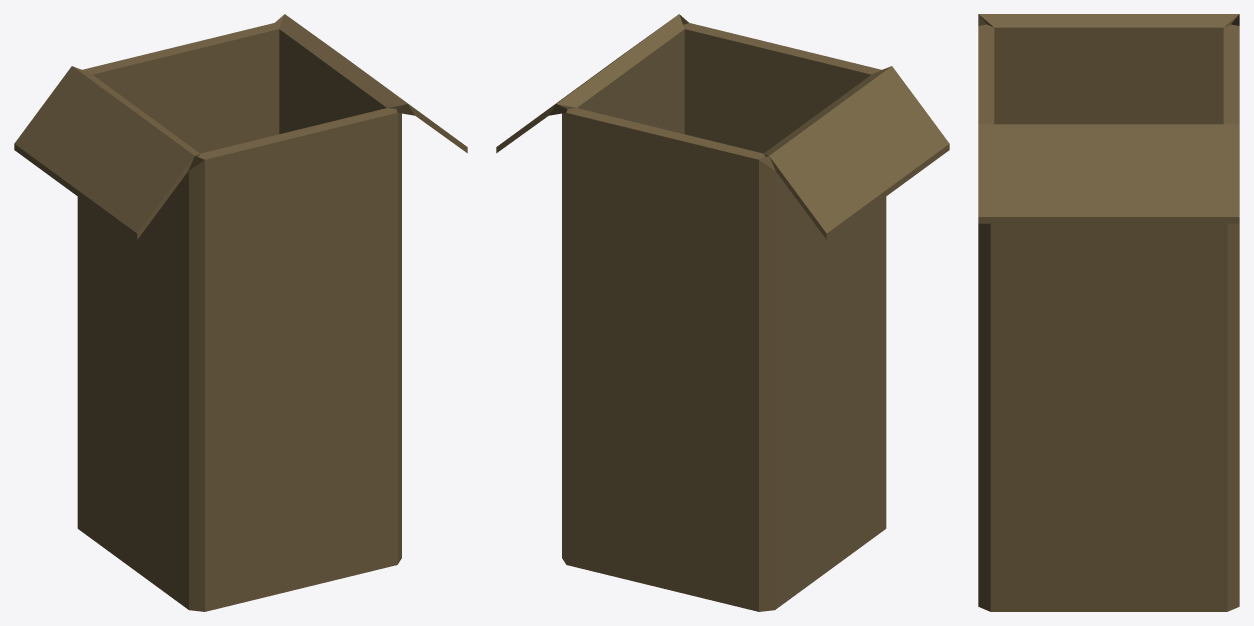
File: CartoonBox1.fbx
3 views of the same model, side by side, from view 1: azimuth 30°, elevation 25°; view 2: azimuth 150°, elevation 25°; view 3: azimuth 270°, elevation 25° (orthographic). The views are drawn at different scales.
Parts seen in each view (by area): view 1: Cube.003; view 2: Cube.003; view 3: Cube.003.
Part boxes in pixels (box(x1,y1,x2,y2)): Cube.003: box(14, 14, 467, 611); Cube.003: box(496, 14, 949, 611); Cube.003: box(978, 14, 1239, 611).
Bounding box in the file's own units: 310 × 412 × 200.
